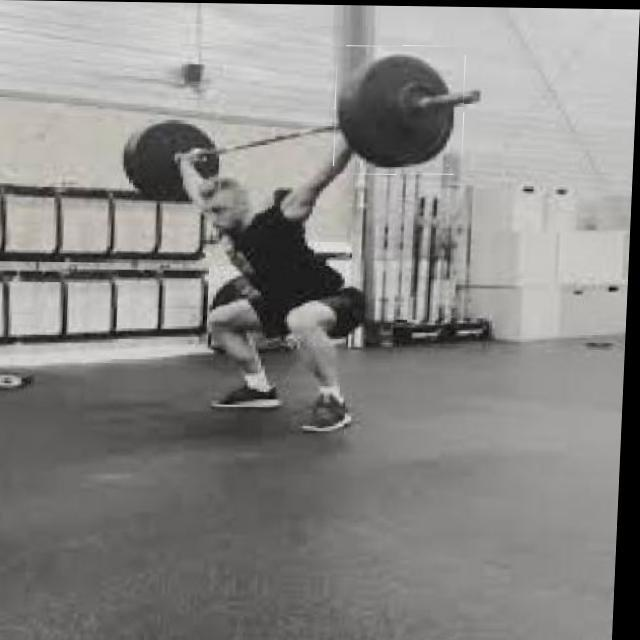barbell: (335, 44, 468, 175)
